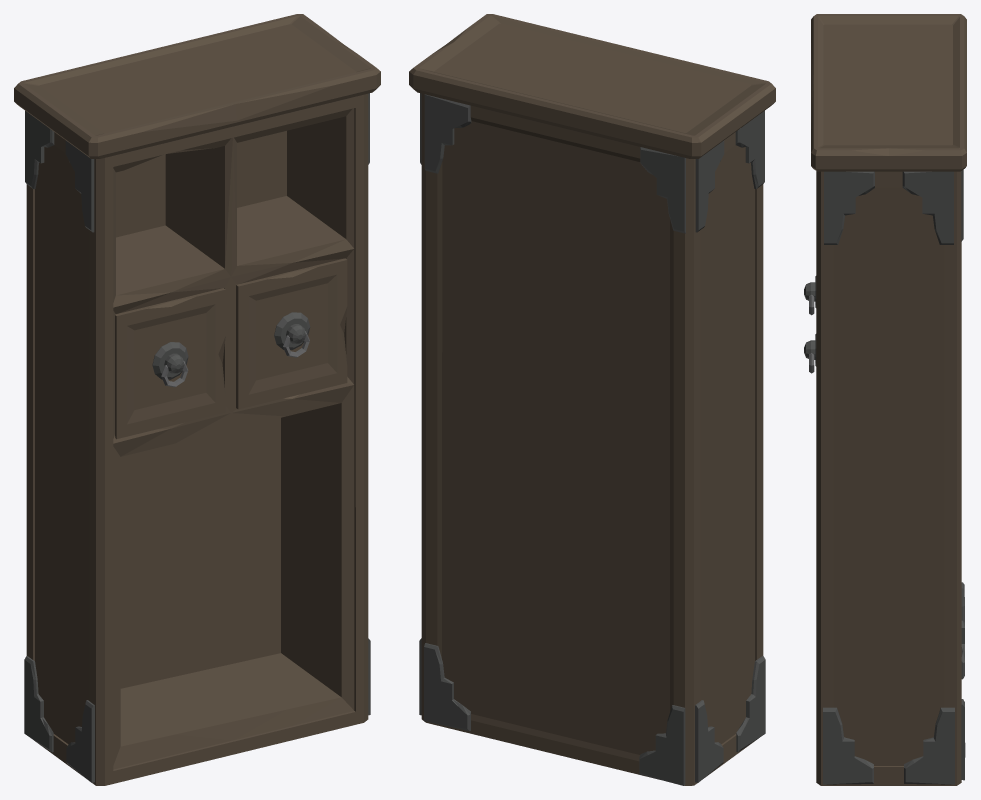
The model's file is Shelving_016.fbx.
The picture shows the model from 3 angles, left to right: view 1: azimuth 30°, elevation 25°; view 2: azimuth 150°, elevation 25°; view 3: azimuth 270°, elevation 25°; orthographic projection. The views are drawn at different scales.
Visible parts, largest first — view 1: Shelving_016; view 2: Shelving_016; view 3: Shelving_016.
Boxes of the visible parts, box(x1,y1,x2,y2) form: Shelving_016: box(14, 14, 380, 785); Shelving_016: box(409, 14, 775, 785); Shelving_016: box(804, 14, 966, 785).
Bounding box in the file's own units: 0.5786 × 1.23 × 0.2849.
